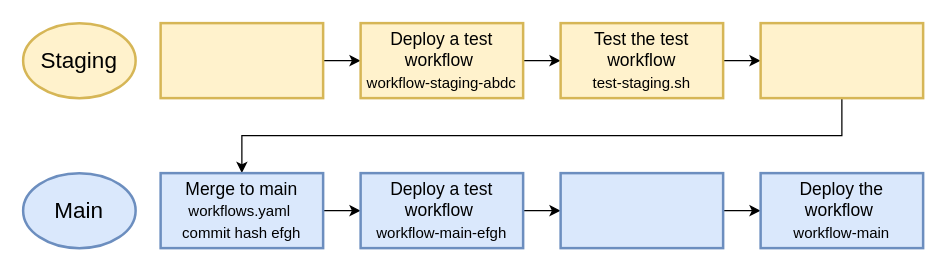
The diagram is 945 pixels wide and 270 high, and some of its shapes have lost their labels. Here are the shapes that lost their labels. From the top down, the centre of each, then its label:
(x=241, y=60): Push a commit to workflows.yaml commit hash abcd
(x=841, y=60): Deploy the workflow workflow-staging
(x=641, y=210): Test the test workflow test-main.sh
